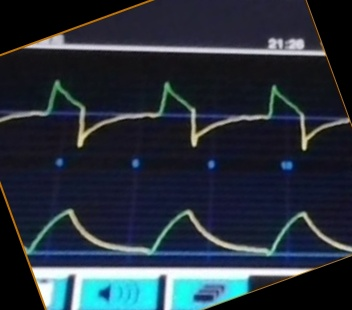Normal Flow: (1, 69, 330, 152)
Normal Volume: (27, 188, 341, 259)
